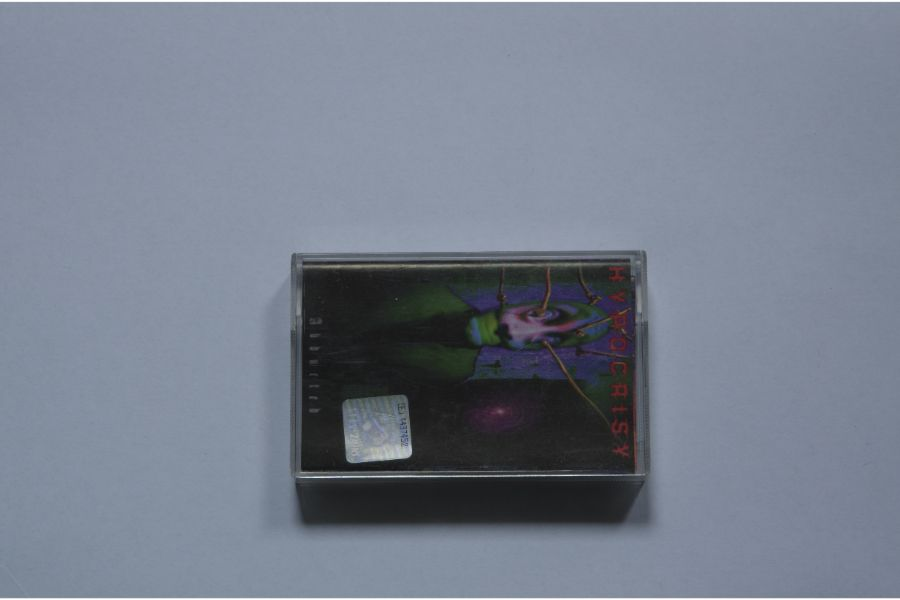album: (287, 250, 654, 484)
